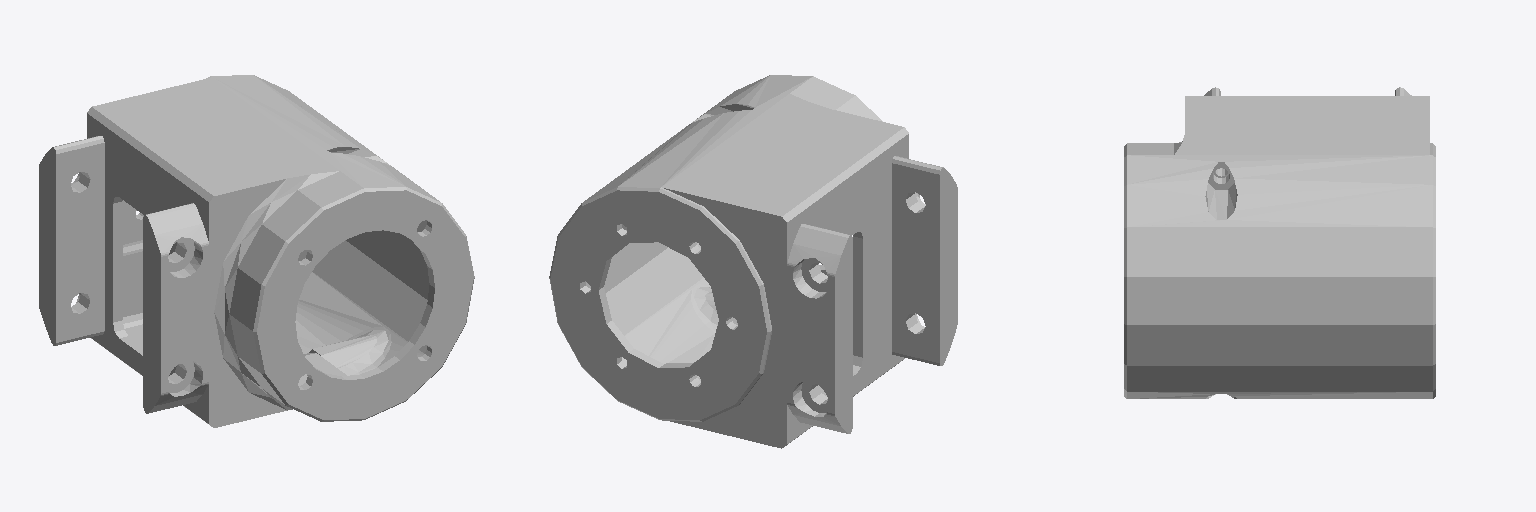
Rendered from neck_pitch.obj.
The picture shows the model from 3 angles: view 1: azimuth 30°, elevation 25°; view 2: azimuth 150°, elevation 25°; view 3: azimuth 270°, elevation 25°; orthographic projection.
Visible parts, largest first — view 1: NECK_PITCH; view 2: NECK_PITCH; view 3: NECK_PITCH.
Part boxes in pixels (left/top/right/bottom): NECK_PITCH: left=39, top=75, right=474, bottom=427; NECK_PITCH: left=549, top=75, right=957, bottom=448; NECK_PITCH: left=1124, top=87, right=1435, bottom=398.
Size of the model in its own units: 0.059 by 0.046 by 0.056.